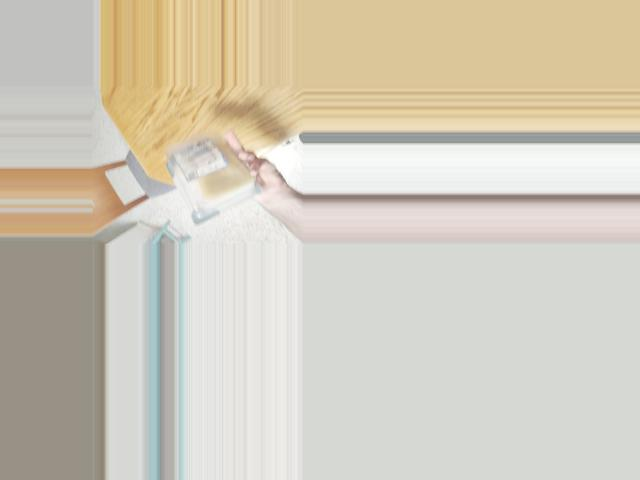cheese: (168, 137, 254, 208)
